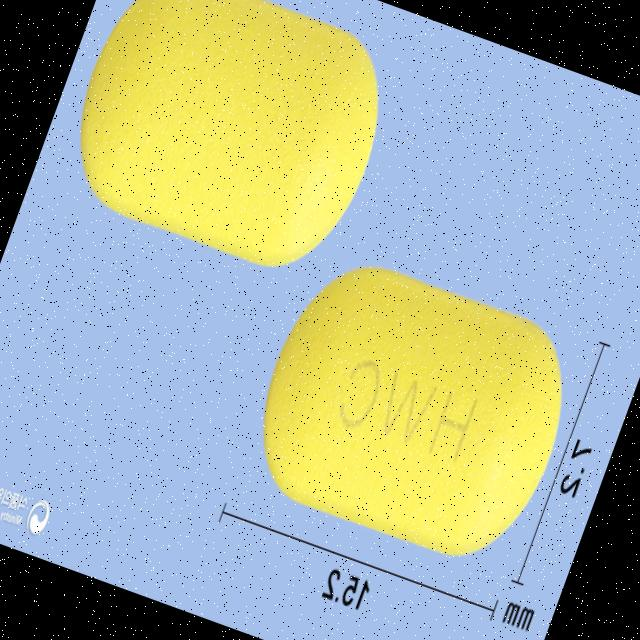Clacid - 250mg: (224, 232, 598, 590), (44, 0, 413, 295)
